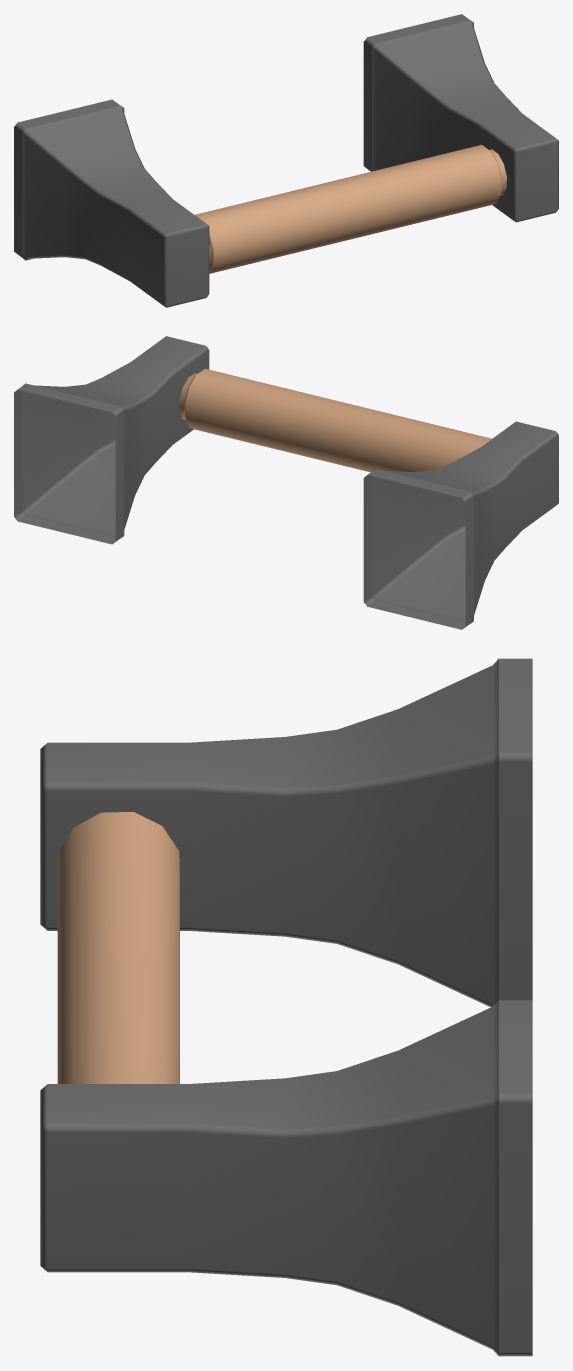
Rendered from Holder2.fbx.
The picture shows the model from 3 angles, top to bottom: view 1: azimuth 30°, elevation 25°; view 2: azimuth 150°, elevation 25°; view 3: azimuth 270°, elevation 25°; orthographic projection. The views are drawn at different scales.
Visible parts, largest first — view 1: Cube.1390; view 2: Cube.1390; view 3: Cube.1390.
Boxes of the visible parts, left/top/right/bottom form: Cube.1390: left=14, top=14, right=558, bottom=307; Cube.1390: left=14, top=336, right=558, bottom=629; Cube.1390: left=40, top=658, right=532, bottom=1356.
Size of the model in its own units: 22.18 by 6.19 by 10.46.
